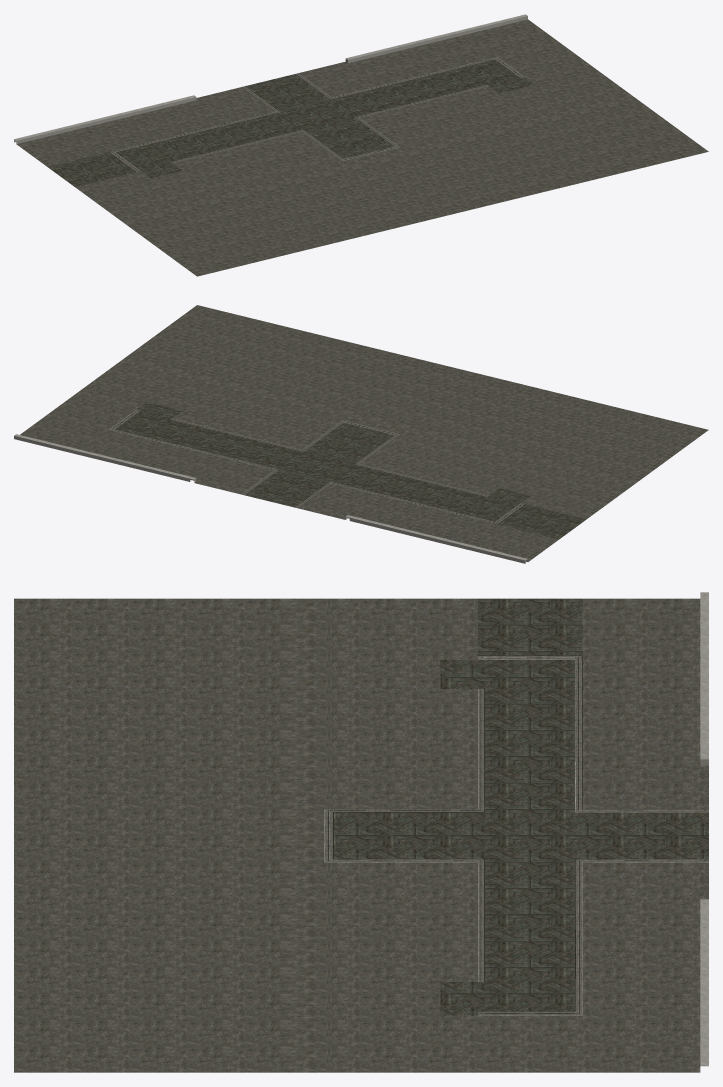
File: DWARF_PALACE_FORGE ROOM_FLOOR01B.fbx
3 views of the same model, one above another, from view 1: azimuth 30°, elevation 25°; view 2: azimuth 150°, elevation 25°; view 3: azimuth 270°, elevation 25° (orthographic). The views are drawn at different scales.
Parts seen in each view (by area): view 1: DWARF_PALACE_FORGE ROOM_FLOOR01B; view 2: DWARF_PALACE_FORGE ROOM_FLOOR01B; view 3: DWARF_PALACE_FORGE ROOM_FLOOR01B.
Boxes of the visible parts, x1=… form: DWARF_PALACE_FORGE ROOM_FLOOR01B: x1=14, y1=14, x2=708, y2=276; DWARF_PALACE_FORGE ROOM_FLOOR01B: x1=14, y1=305, x2=708, y2=563; DWARF_PALACE_FORGE ROOM_FLOOR01B: x1=14, y1=592, x2=708, y2=1072.
Size of the model in its own units: 642000 by 4000 by 398000.
6 materials, 6 textured.
